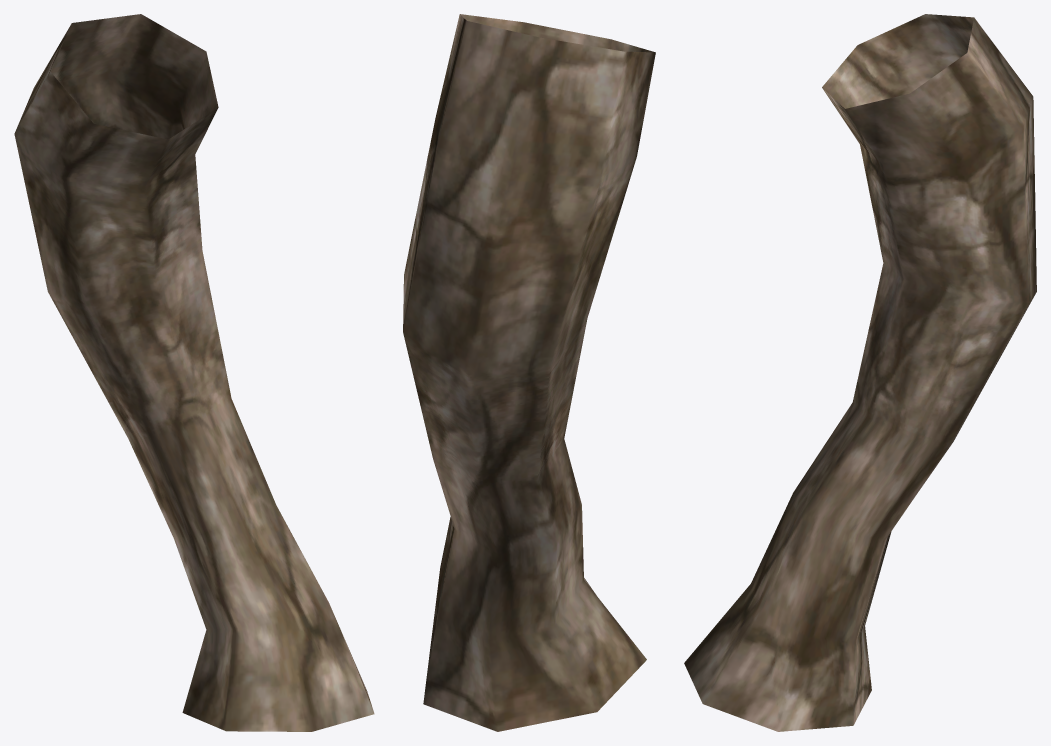
The model's file is EKH_JAIL_PS_JA_PILLAR83766.fbx.
3 views of the same model, side by side, from view 1: azimuth 30°, elevation 25°; view 2: azimuth 150°, elevation 25°; view 3: azimuth 270°, elevation 25° (orthographic). The views are drawn at different scales.
Parts seen in each view (by area): view 1: EKH_JAIL_PS_JA_PILLAR83766; view 2: EKH_JAIL_PS_JA_PILLAR83766; view 3: EKH_JAIL_PS_JA_PILLAR83766.
Part boxes in pixels (x1=…): EKH_JAIL_PS_JA_PILLAR83766: x1=14, y1=14, x2=374, y2=731; EKH_JAIL_PS_JA_PILLAR83766: x1=403, y1=14, x2=655, y2=731; EKH_JAIL_PS_JA_PILLAR83766: x1=684, y1=14, x2=1036, y2=731.
Size of the model in its own units: 19827 by 49578 by 25090.
Materials: 1 (1 with a texture image).
